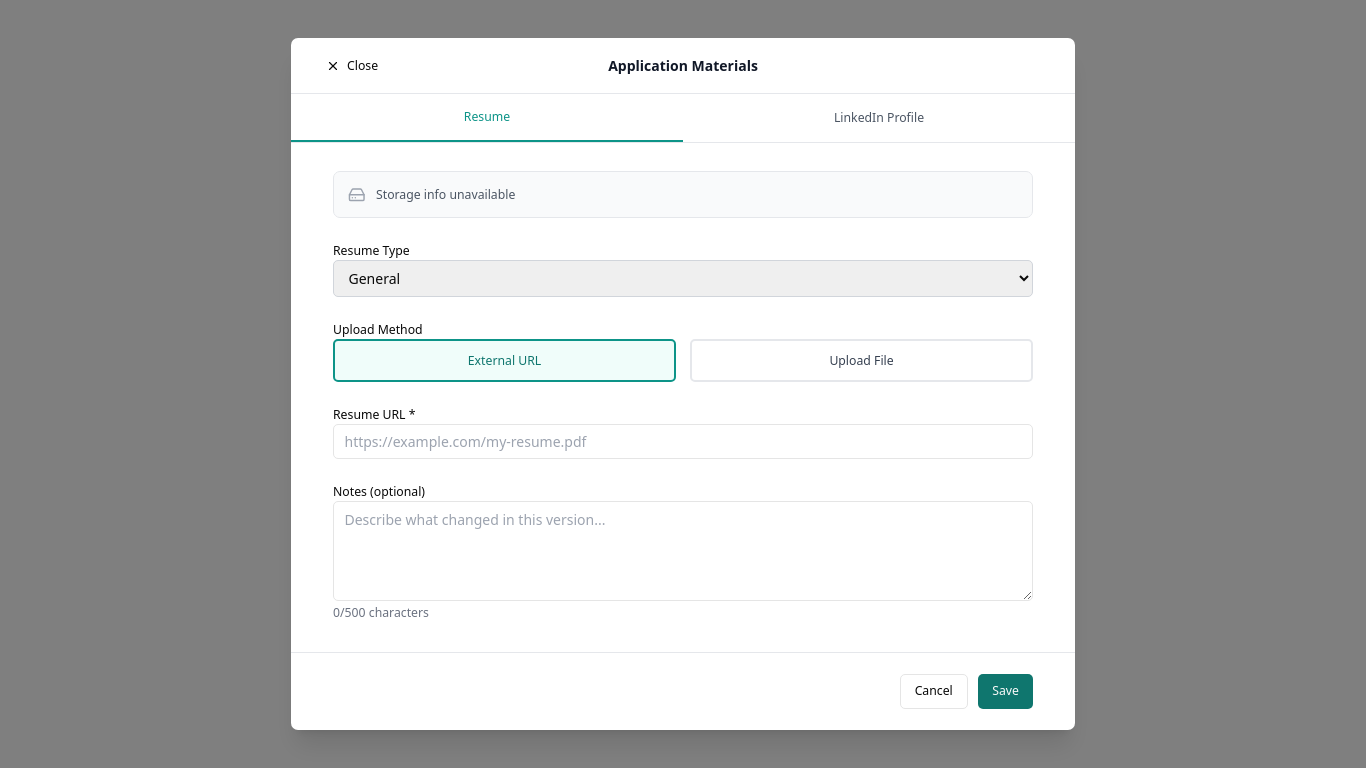
Test: ApplicationMaterialsModal › Tab Navigation › should switch to LinkedIn tab when clicked
This screenshot has width=1366, height=768.
Click the button "LinkedIn Profile" at (879, 118), box [683, 94, 1075, 142]
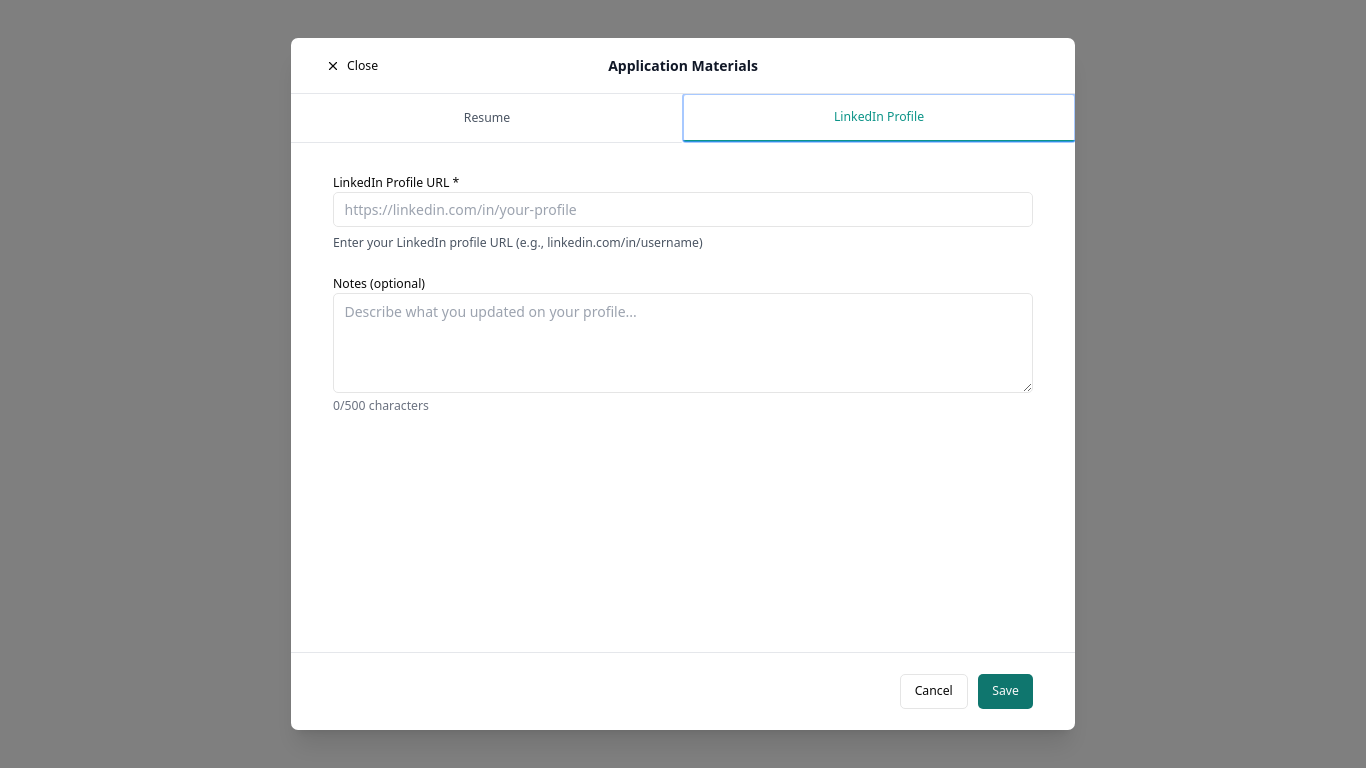
Now the field labelled "LinkedIn Profile URL *" is shown, box [333, 192, 1033, 227]
